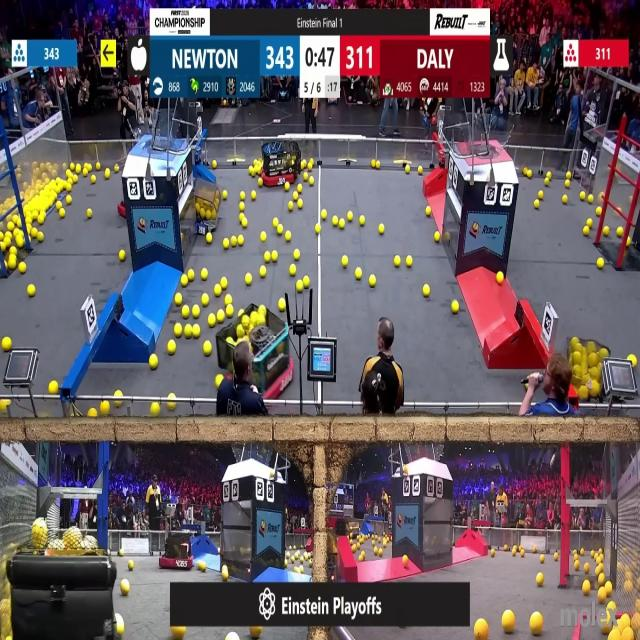ball_ground: (530, 614, 543, 636), (501, 613, 514, 634), (2, 338, 11, 353), (598, 588, 606, 604), (120, 582, 129, 596), (583, 582, 592, 596), (101, 401, 110, 415), (601, 622, 610, 636), (150, 404, 159, 417), (251, 626, 260, 639), (168, 341, 176, 355), (149, 354, 157, 368), (7, 257, 15, 271), (48, 382, 57, 394), (205, 342, 212, 357), (536, 572, 543, 586), (221, 566, 228, 580), (452, 302, 460, 314), (174, 324, 182, 336), (278, 300, 286, 312), (191, 306, 199, 318), (208, 315, 216, 327), (181, 307, 189, 319), (184, 324, 191, 337), (174, 293, 182, 304), (422, 285, 430, 296), (496, 273, 504, 284), (28, 285, 36, 296), (90, 409, 98, 420), (192, 324, 199, 336), (259, 267, 266, 279), (368, 275, 375, 287), (407, 255, 414, 267), (225, 306, 232, 318), (218, 312, 225, 324), (215, 376, 222, 388), (597, 257, 604, 269), (245, 274, 252, 286), (16, 236, 23, 248), (0, 399, 7, 411), (202, 294, 210, 304), (602, 226, 610, 236), (180, 276, 188, 286), (202, 270, 209, 281), (355, 269, 362, 280), (18, 264, 25, 275), (289, 266, 296, 277), (214, 285, 221, 296), (238, 236, 245, 247), (118, 250, 125, 261), (295, 282, 302, 293), (220, 278, 227, 289), (200, 561, 207, 572), (394, 255, 400, 267), (342, 255, 348, 267), (272, 250, 278, 262), (265, 252, 272, 262), (224, 294, 231, 304), (284, 232, 291, 242), (232, 237, 239, 247), (607, 601, 614, 611), (598, 574, 605, 584), (38, 212, 44, 223), (169, 401, 176, 410), (37, 234, 44, 243), (380, 223, 386, 233), (206, 235, 212, 245), (434, 233, 440, 243), (222, 239, 228, 249), (260, 233, 266, 243), (331, 216, 337, 226), (273, 217, 279, 227), (242, 217, 248, 227), (618, 226, 624, 236), (293, 250, 299, 260), (188, 271, 194, 281), (305, 277, 310, 288), (596, 207, 602, 216), (278, 225, 284, 234), (340, 219, 346, 228), (584, 226, 590, 235), (75, 166, 81, 175), (66, 182, 72, 191), (370, 161, 376, 170), (32, 230, 38, 239), (299, 162, 305, 171), (7, 222, 13, 231), (596, 565, 602, 574), (316, 222, 321, 232), (88, 209, 93, 219), (348, 212, 353, 222), (321, 210, 326, 220), (240, 203, 245, 213), (105, 170, 110, 180), (632, 356, 637, 366), (115, 390, 122, 397), (579, 191, 585, 199), (240, 191, 246, 199), (587, 218, 593, 226), (284, 182, 290, 190), (406, 165, 412, 173), (566, 172, 572, 180), (169, 392, 175, 400), (573, 562, 579, 570), (66, 170, 72, 178), (82, 168, 88, 176), (585, 564, 591, 572), (10, 247, 16, 255), (0, 242, 6, 250), (251, 190, 256, 199), (61, 209, 66, 218), (288, 203, 293, 212), (359, 216, 364, 225), (402, 556, 407, 565), (130, 561, 135, 570), (589, 193, 594, 202), (222, 190, 227, 199), (555, 553, 560, 562), (534, 200, 539, 209), (418, 168, 424, 175), (545, 172, 551, 179), (115, 399, 121, 406), (297, 201, 302, 209), (563, 194, 568, 202), (257, 178, 262, 186), (67, 197, 72, 205), (297, 184, 302, 192), (307, 180, 312, 188), (212, 162, 217, 170), (565, 182, 570, 190), (527, 170, 532, 178), (491, 550, 496, 558), (73, 175, 78, 183), (627, 239, 632, 247), (376, 162, 381, 170), (359, 554, 364, 562), (372, 548, 377, 556), (426, 207, 430, 216), (540, 555, 544, 564), (293, 193, 297, 202), (114, 166, 119, 173), (306, 162, 311, 169), (532, 545, 537, 552), (503, 543, 508, 550), (538, 190, 542, 198), (544, 178, 548, 186), (97, 164, 101, 172), (249, 168, 253, 176), (298, 566, 302, 574), (58, 202, 62, 210), (0, 234, 4, 242), (380, 550, 384, 558), (118, 551, 123, 557), (93, 176, 97, 183), (284, 560, 288, 567), (293, 566, 297, 573), (580, 550, 584, 557), (521, 552, 525, 559), (514, 550, 518, 557), (217, 547, 220, 553)
goal: (460, 118, 516, 158), (128, 116, 188, 152)
robot_blue: (568, 337, 616, 398), (194, 182, 222, 238)
robot_red: (239, 304, 296, 402), (261, 138, 302, 186), (158, 530, 196, 569)
